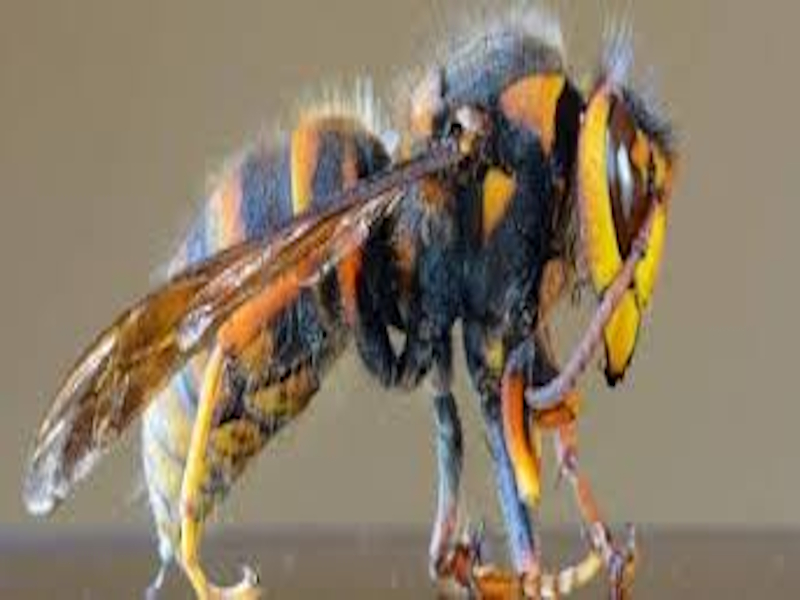chax: (33, 28, 763, 595)
